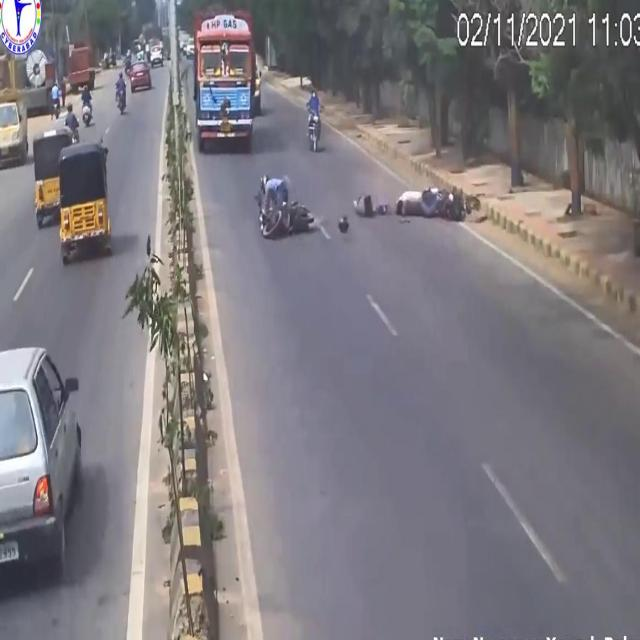accident: (352, 174, 488, 235), (255, 156, 318, 256)
non_accident: (25, 101, 119, 279), (186, 6, 270, 154), (138, 10, 170, 90)
